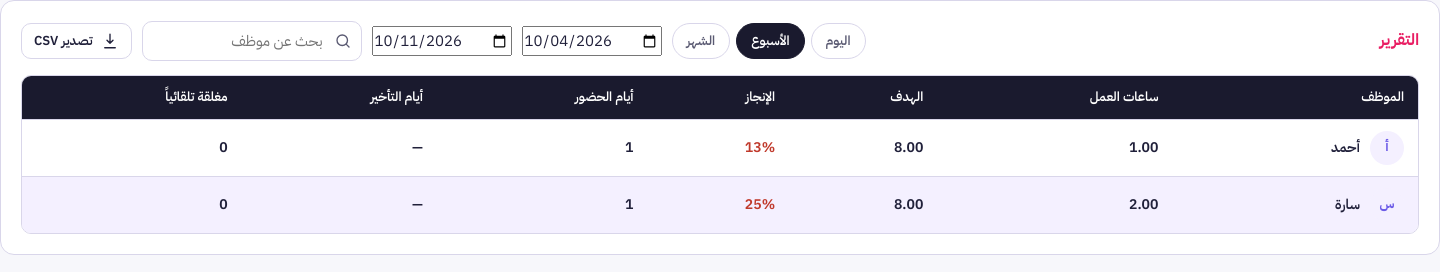
Test: ReportPanel › filters by search text
Expected: the text "أحمد" is shown, [1331,137,1360,159]
Step 1. Type "سارة" into the search field with placeholder "بحث عن موظف" → (252, 41), box [142,21,362,61]
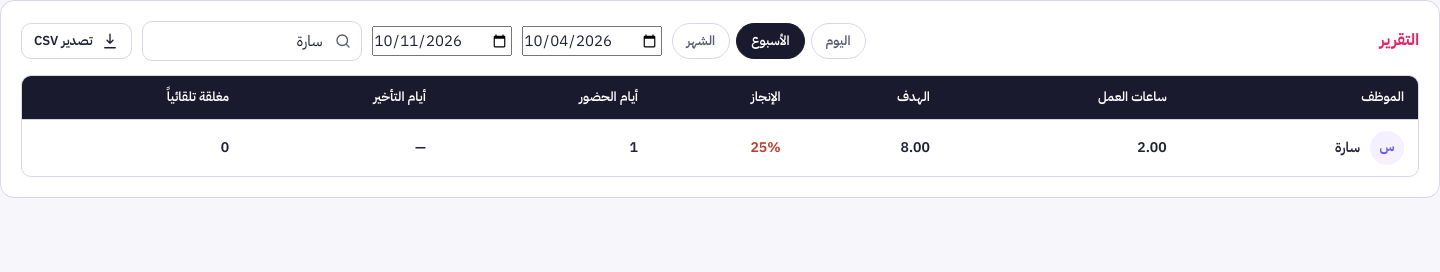
Expected: the text "سارة" is shown, [1335,137,1360,159]
Expected: the text "أحمد" is gone
